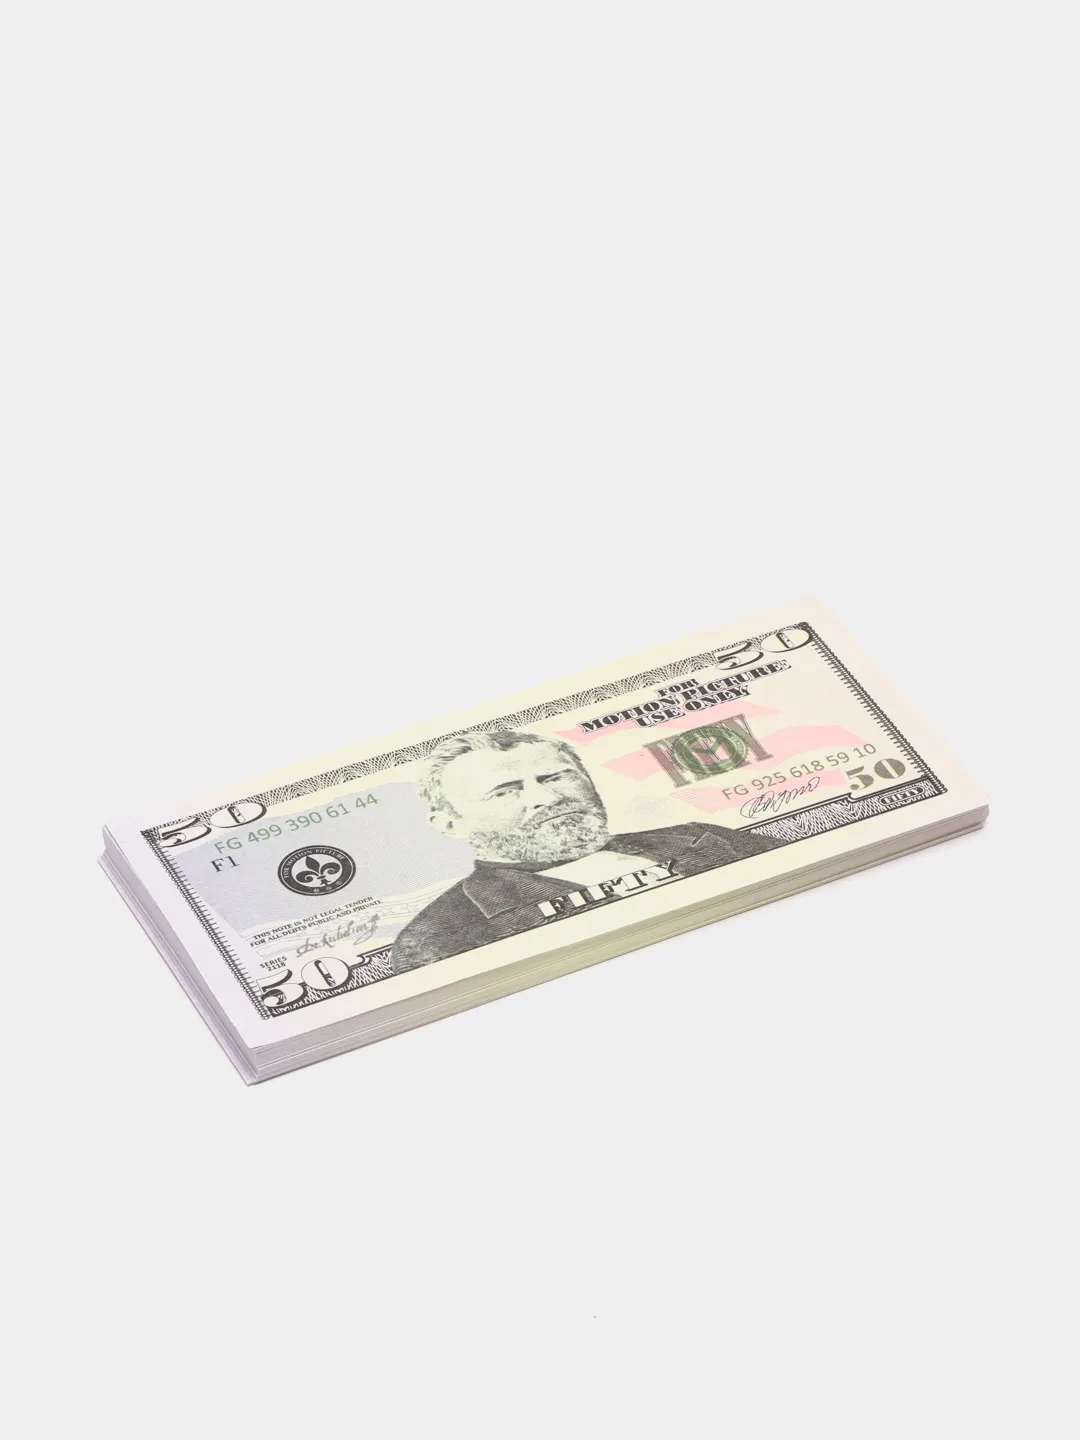cash: (104, 600, 988, 1047)
